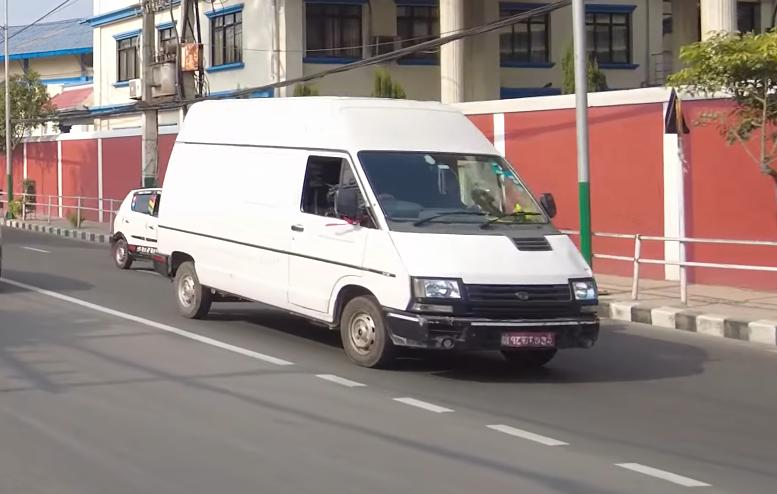micro_bus: (150, 89, 612, 378)
taxi: (111, 184, 170, 274)
